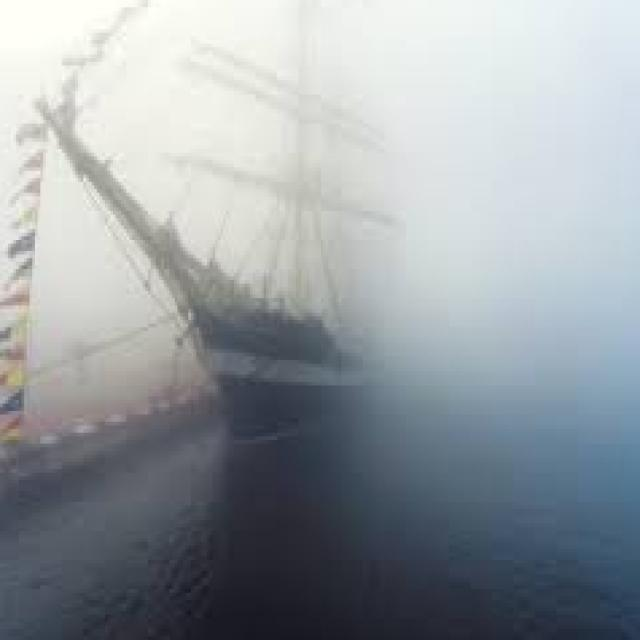fishing boat: (51, 0, 463, 429)
